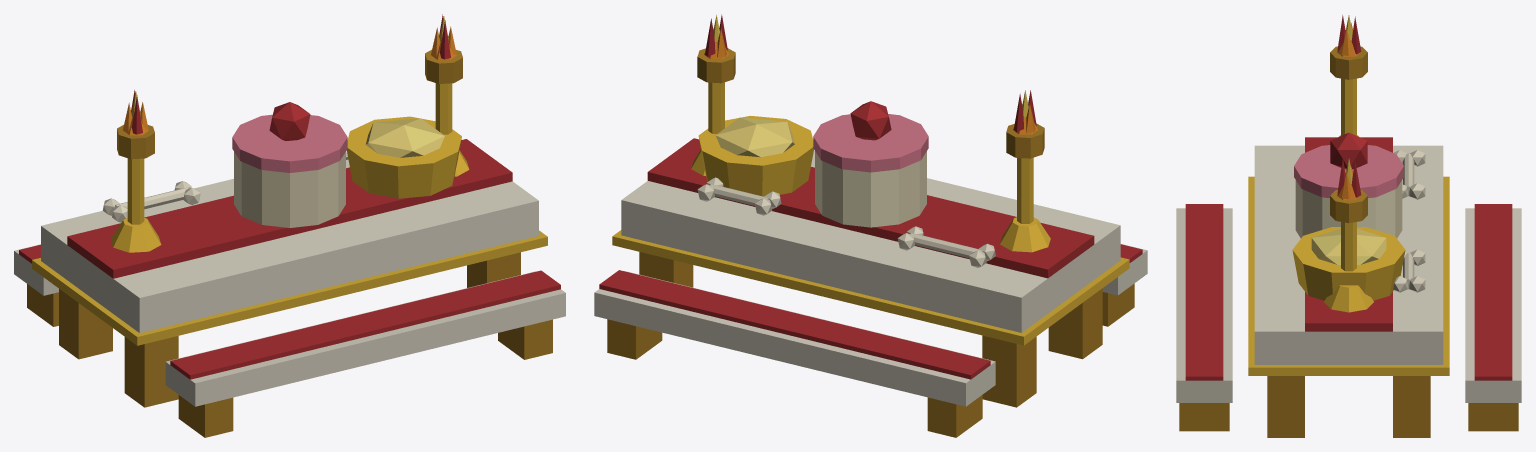
File: Decor_DogeAltar_AltarTable.fbx
3 views of the same model, side by side, from view 1: azimuth 30°, elevation 25°; view 2: azimuth 150°, elevation 25°; view 3: azimuth 270°, elevation 25° (orthographic). The views are drawn at different scales.
Parts seen in each view (by area): view 1: AltarTable_Body; view 2: AltarTable_Body; view 3: AltarTable_Body.
Part boxes in pixels (left/top/right/bottom): AltarTable_Body: left=14, top=14, right=565, bottom=437; AltarTable_Body: left=594, top=14, right=1147, bottom=437; AltarTable_Body: left=1176, top=15, right=1521, bottom=437.
Size of the model in its own units: 14.4 by 9.3 by 11.
